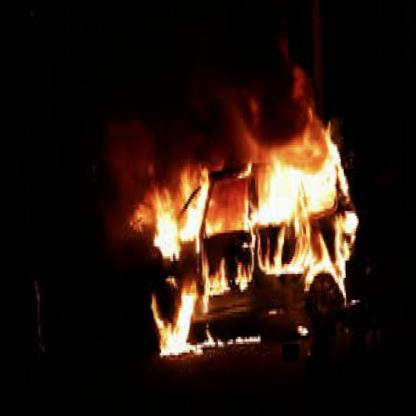fire: (118, 92, 356, 368)
